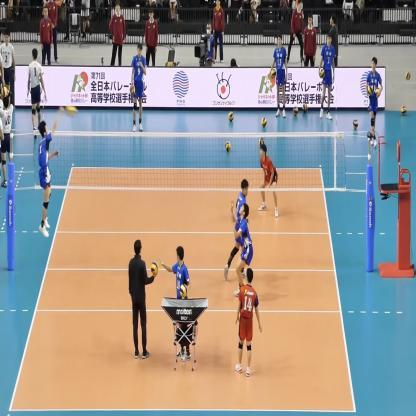spike: (34, 105, 66, 242)
